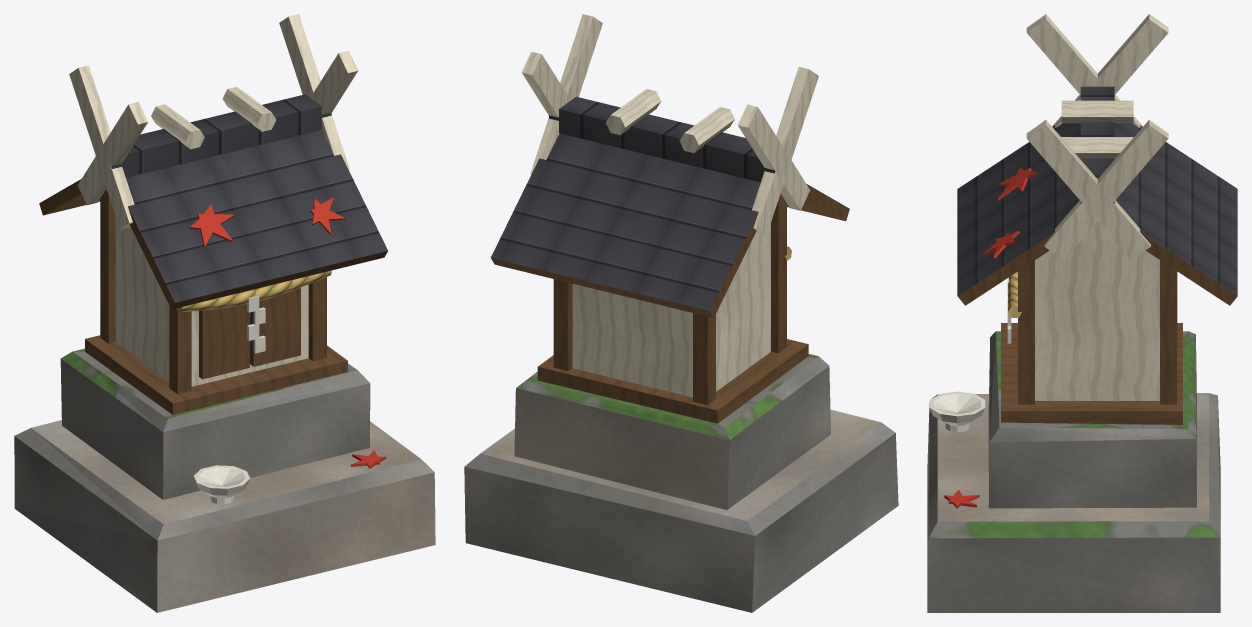
The model's file is roadside_shrine.fbx.
3 renders of one model, left to right at view 1: azimuth 30°, elevation 25°; view 2: azimuth 150°, elevation 25°; view 3: azimuth 270°, elevation 25°, orthographic. The views are drawn at different scales.
Parts seen in each view (by area): view 1: roadside_shrine_Stone, roadside_shrine_Roof, roadside_shrine_Wood, roadside_shrine_Offering; view 2: roadside_shrine_Stone, roadside_shrine_Wood, roadside_shrine_Roof; view 3: roadside_shrine_Stone, roadside_shrine_Wood, roadside_shrine_Roof, roadside_shrine_Offering.
Part boxes in pixels (<box>): roadside_shrine_Stone: <box>14,348,435,612</box>; roadside_shrine_Roof: <box>39,94,387,309</box>; roadside_shrine_Wood: <box>69,14,357,414</box>; roadside_shrine_Offering: <box>176,270,331,504</box>; roadside_shrine_Stone: <box>464,354,898,612</box>; roadside_shrine_Wood: <box>521,14,818,423</box>; roadside_shrine_Roof: <box>490,96,849,317</box>; roadside_shrine_Stone: <box>927,331,1220,612</box>; roadside_shrine_Wood: <box>1001,14,1182,424</box>; roadside_shrine_Roof: <box>957,86,1237,305</box>; roadside_shrine_Offering: <box>929,271,1021,432</box>.
Size of the model in its own units: 3.54 by 5.52 by 3.28.
1 material, 1 textured.
